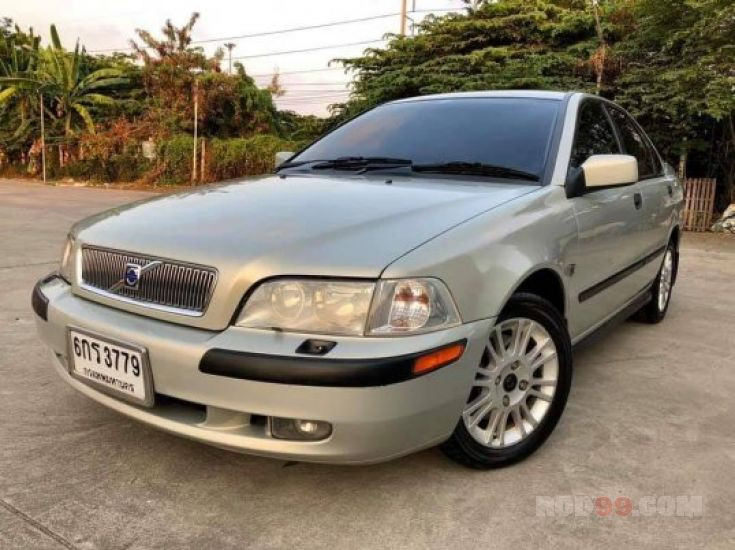sedan: (29, 88, 685, 472)
